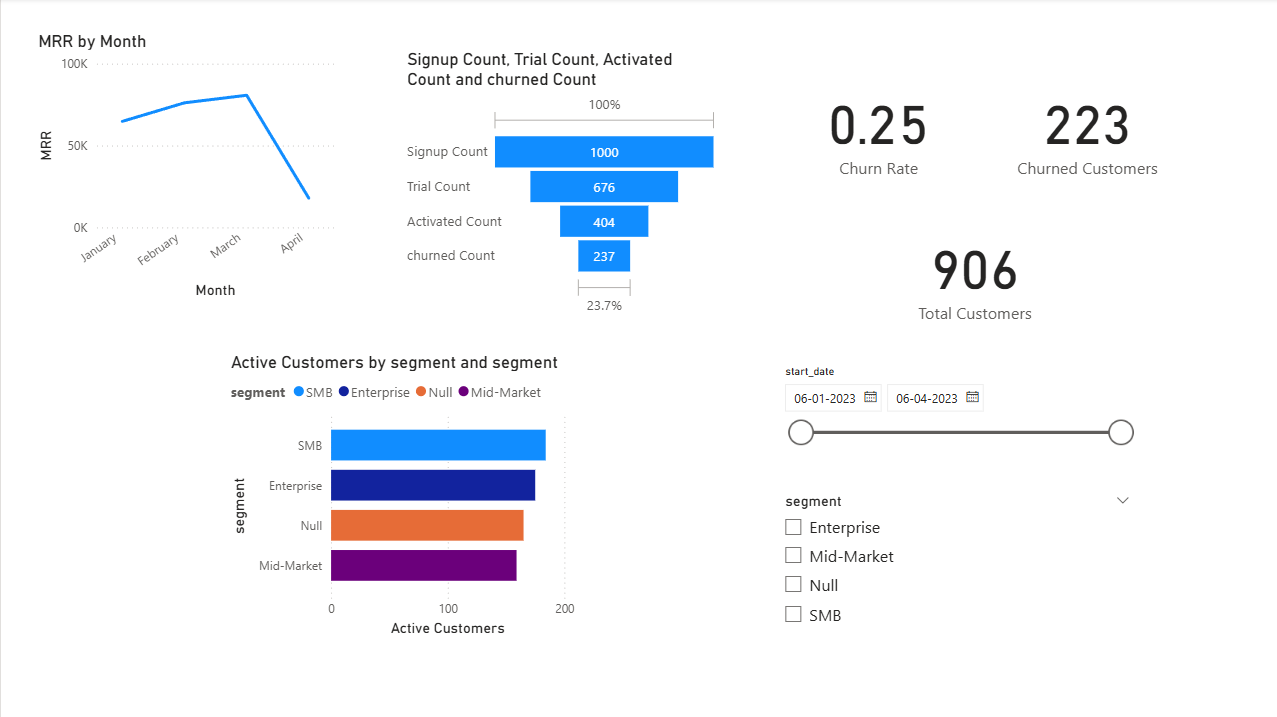

What the dashboard file says about the page in this screenshot:
{"tool":"powerbi","page":{"name":"Page 1","canvas":[1280,720],"ordinal":0},"visuals":[{"type":"lineChart","fields":{"Y":["subscriptions.MRR"],"Category":["subscriptions.start_date.Variation.Date Hierarchy.Month"]},"box":[32,32,304,272],"z":0},{"type":"funnel","fields":{"Y":["subscriptions.Signup Count","subscriptions.Trial Count","subscriptions.Activated Count","subscriptions.churned Count"]},"box":[400,48,320,272],"z":1000},{"type":"card","fields":{"Values":["subscriptions.Churned Customers"]},"box":[992,60.1,180,142],"z":2000},{"type":"card","fields":{"Values":["subscriptions.Churn Rate"]},"box":[784,60.1,180,142],"z":3000},{"type":"card","fields":{"Values":["subscriptions.Total Customers"]},"box":[880,204.1,180,142],"z":4000},{"type":"barChart","fields":{"Category":["customers.segment"],"Y":["subscriptions.Active Customers"],"Series":["customers.segment"]},"box":[224,352,352,288],"z":5000},{"type":"slicer","fields":{"Values":["subscriptions.start_date"]},"box":[767.3,360,368,128],"z":6000},{"type":"slicer","fields":{"Values":["customers.segment"]},"box":[767.3,488,368,144],"z":7000}]}

Visuals, with their boxes in screenshot pixels (x1, y1, x2, y2), scaled from the page's 1280x720 canvas onto the 1277x717 screenshot:
lineChart - subscriptions.MRR x subscriptions.start_date.Variation.Date Hierarchy.Month: x1=32 y1=32 x2=335 y2=303
funnel - subscriptions.Signup Count x subscriptions.Trial Count: x1=399 y1=48 x2=718 y2=319
card - subscriptions.Churned Customers: x1=990 y1=60 x2=1169 y2=201
card - subscriptions.Churn Rate: x1=782 y1=60 x2=962 y2=201
card - subscriptions.Total Customers: x1=878 y1=203 x2=1058 y2=345
barChart - customers.segment x subscriptions.Active Customers: x1=223 y1=351 x2=575 y2=637
slicer - subscriptions.start_date: x1=766 y1=358 x2=1133 y2=486
slicer - customers.segment: x1=766 y1=486 x2=1133 y2=629
